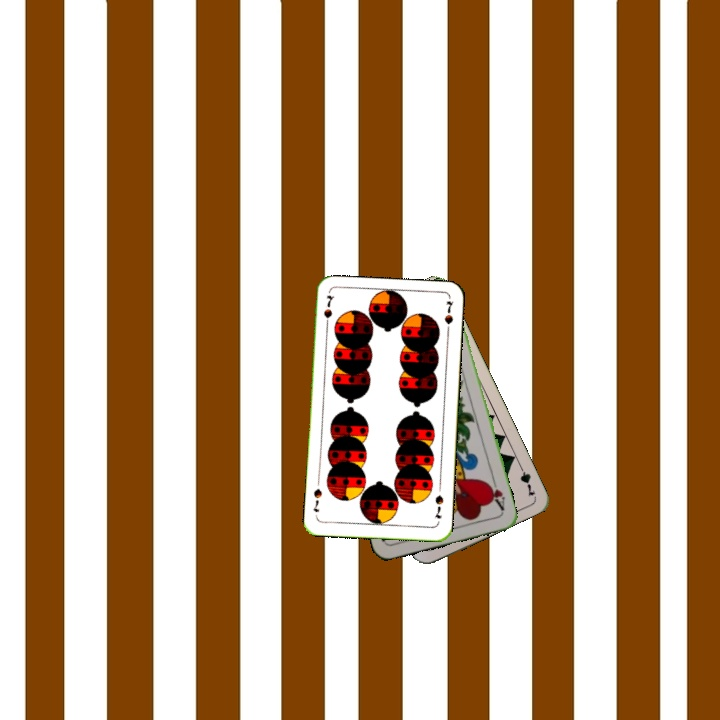G7: (514, 460, 538, 499)
HA: (484, 474, 508, 513)
S7: (320, 291, 337, 331), (431, 491, 446, 521)
